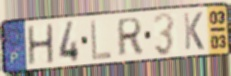3: (152, 10, 178, 57)
4: (57, 20, 80, 64)
H: (26, 22, 56, 67)
K: (182, 11, 205, 52)
L: (89, 18, 114, 62)
R: (117, 16, 144, 59)
